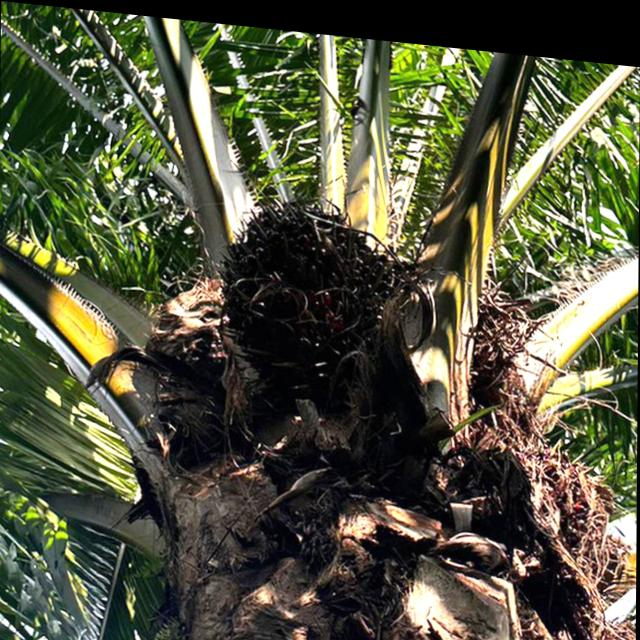ripe: (200, 165, 398, 382)
